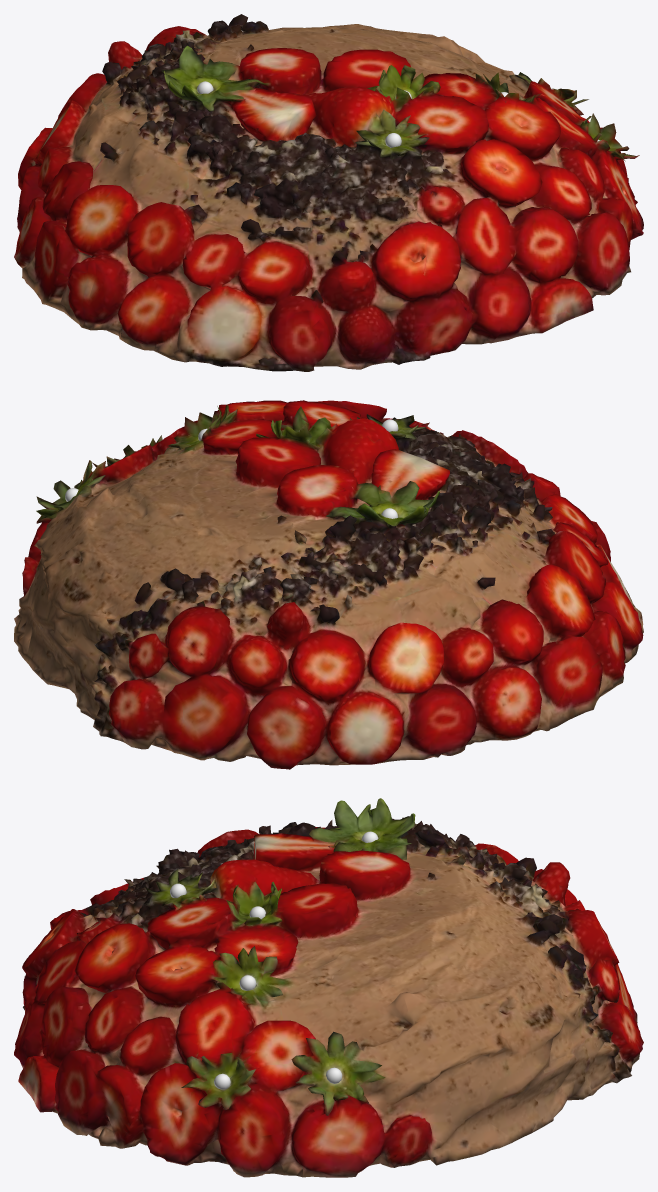
Rendered from strawberry_chocolate_cake.glb.
The picture shows the model from 3 angles, top to bottom: view 1: azimuth 30°, elevation 25°; view 2: azimuth 150°, elevation 25°; view 3: azimuth 270°, elevation 25°; orthographic projection. The views are drawn at different scales.
Parts seen in each view (by area): view 1: strawberry_chocolate_cake; view 2: strawberry_chocolate_cake; view 3: strawberry_chocolate_cake.
Part boxes in pixels (<box>): strawberry_chocolate_cake: <box>14,14,643,371</box>; strawberry_chocolate_cake: <box>14,400,643,769</box>; strawberry_chocolate_cake: <box>14,798,643,1177</box>.
Size of the model in its own units: 0.2443 by 0.0792 by 0.2403.
1 material, 1 textured.
